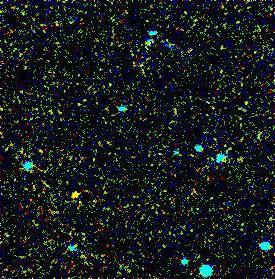star: (58, 181, 88, 211)
